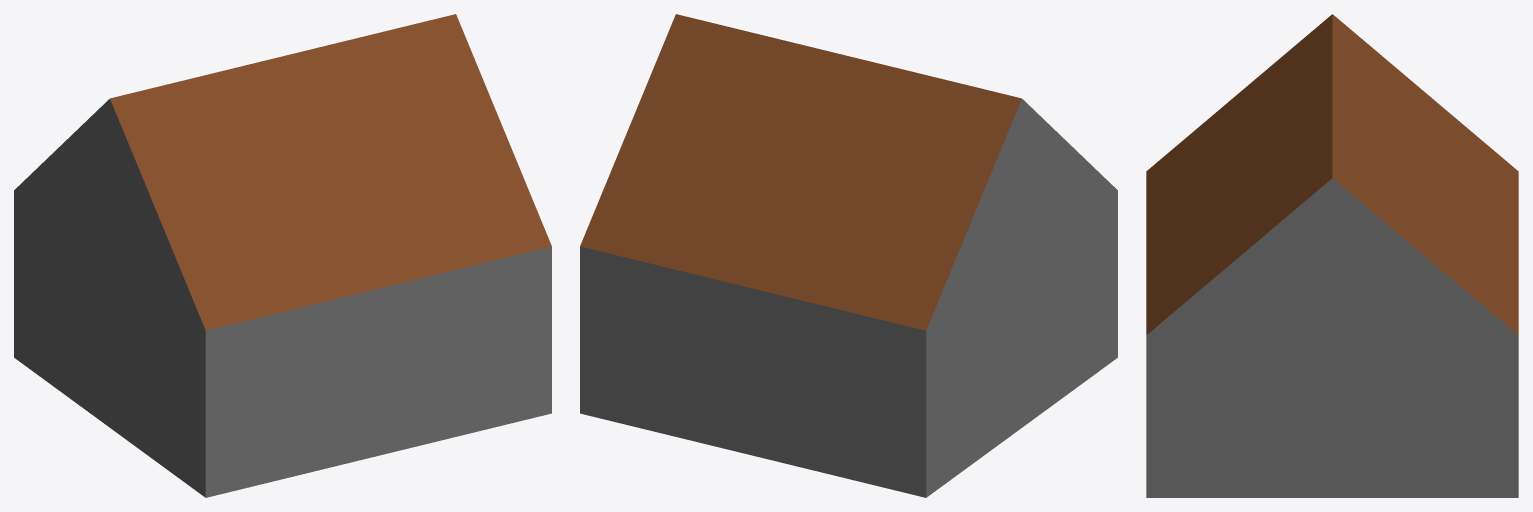
Rendered from House1.fbx.
3 views of the same model, side by side, from view 1: azimuth 30°, elevation 25°; view 2: azimuth 150°, elevation 25°; view 3: azimuth 270°, elevation 25° (orthographic). The views are drawn at different scales.
Parts seen in each view (by area): view 1: polySurface31; view 2: polySurface31; view 3: polySurface31.
Part boxes in pixels (left/top/right/bottom): polySurface31: left=14, top=14, right=551, bottom=497; polySurface31: left=580, top=14, right=1117, bottom=497; polySurface31: left=1146, top=14, right=1518, bottom=497.
Size of the model in its own units: 2.2 by 2 by 2.11.
